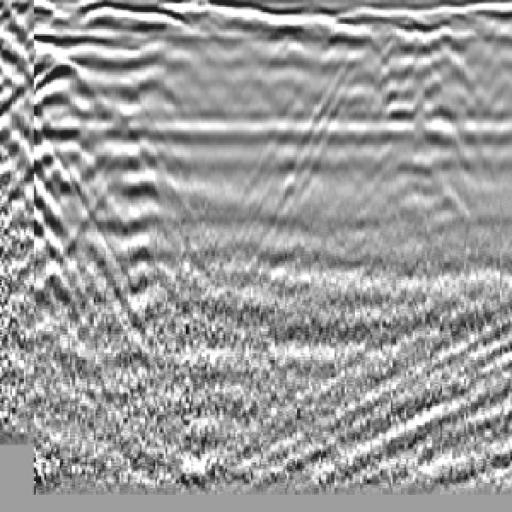non-metallic: (4, 41, 119, 289)
